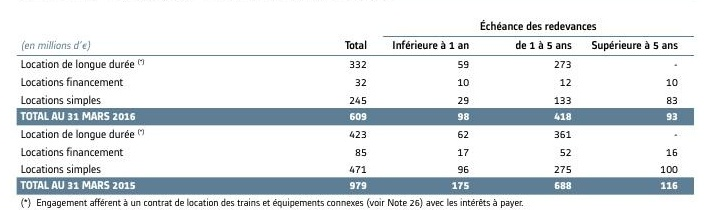table: (0, 0, 715, 210)
